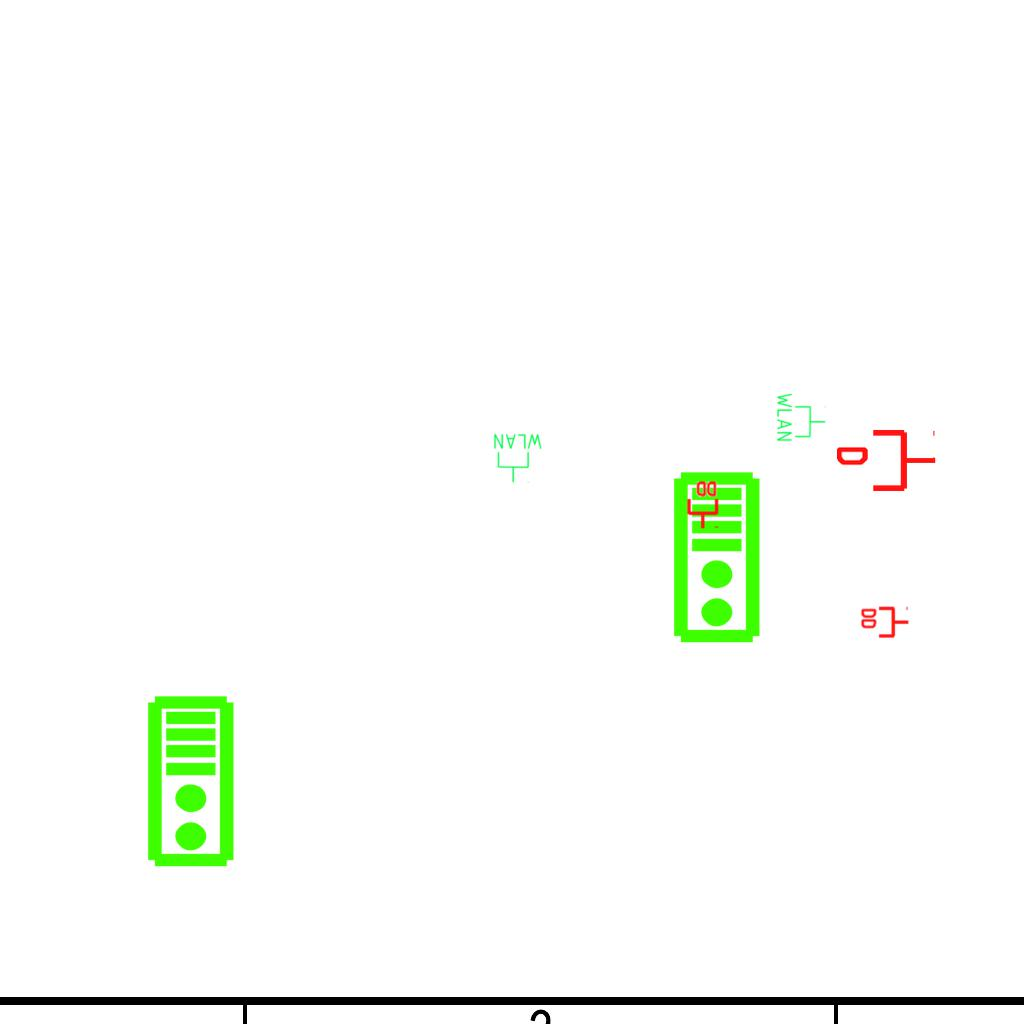Datenanschluss_einfach: (837, 426, 937, 495)
Datenanschluss_zweifach: (859, 606, 910, 640), (685, 479, 719, 530)
Gegensprechanlage_mit_Video: (145, 694, 240, 870), (671, 470, 766, 646)
WLAN: (775, 391, 827, 443), (492, 432, 544, 484)
